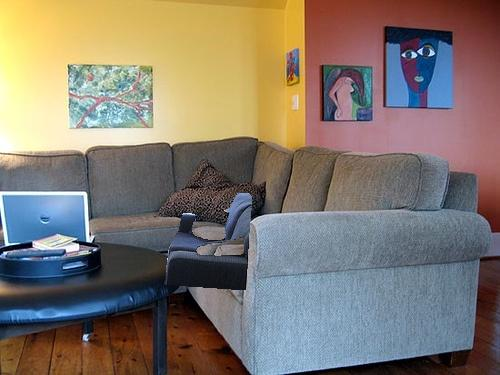tampered: (165, 194, 252, 290)
